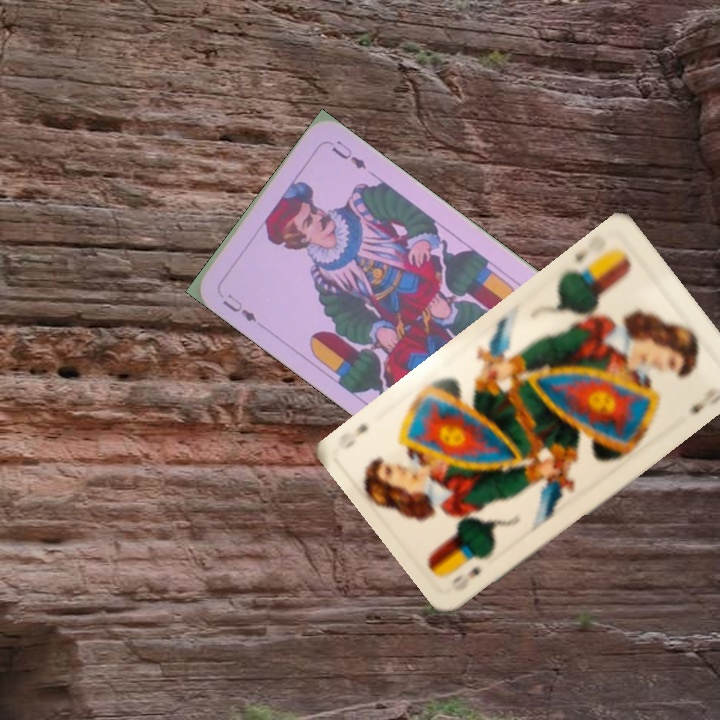EO: (569, 231, 609, 278), (447, 562, 485, 594)
EU: (218, 290, 259, 325)
